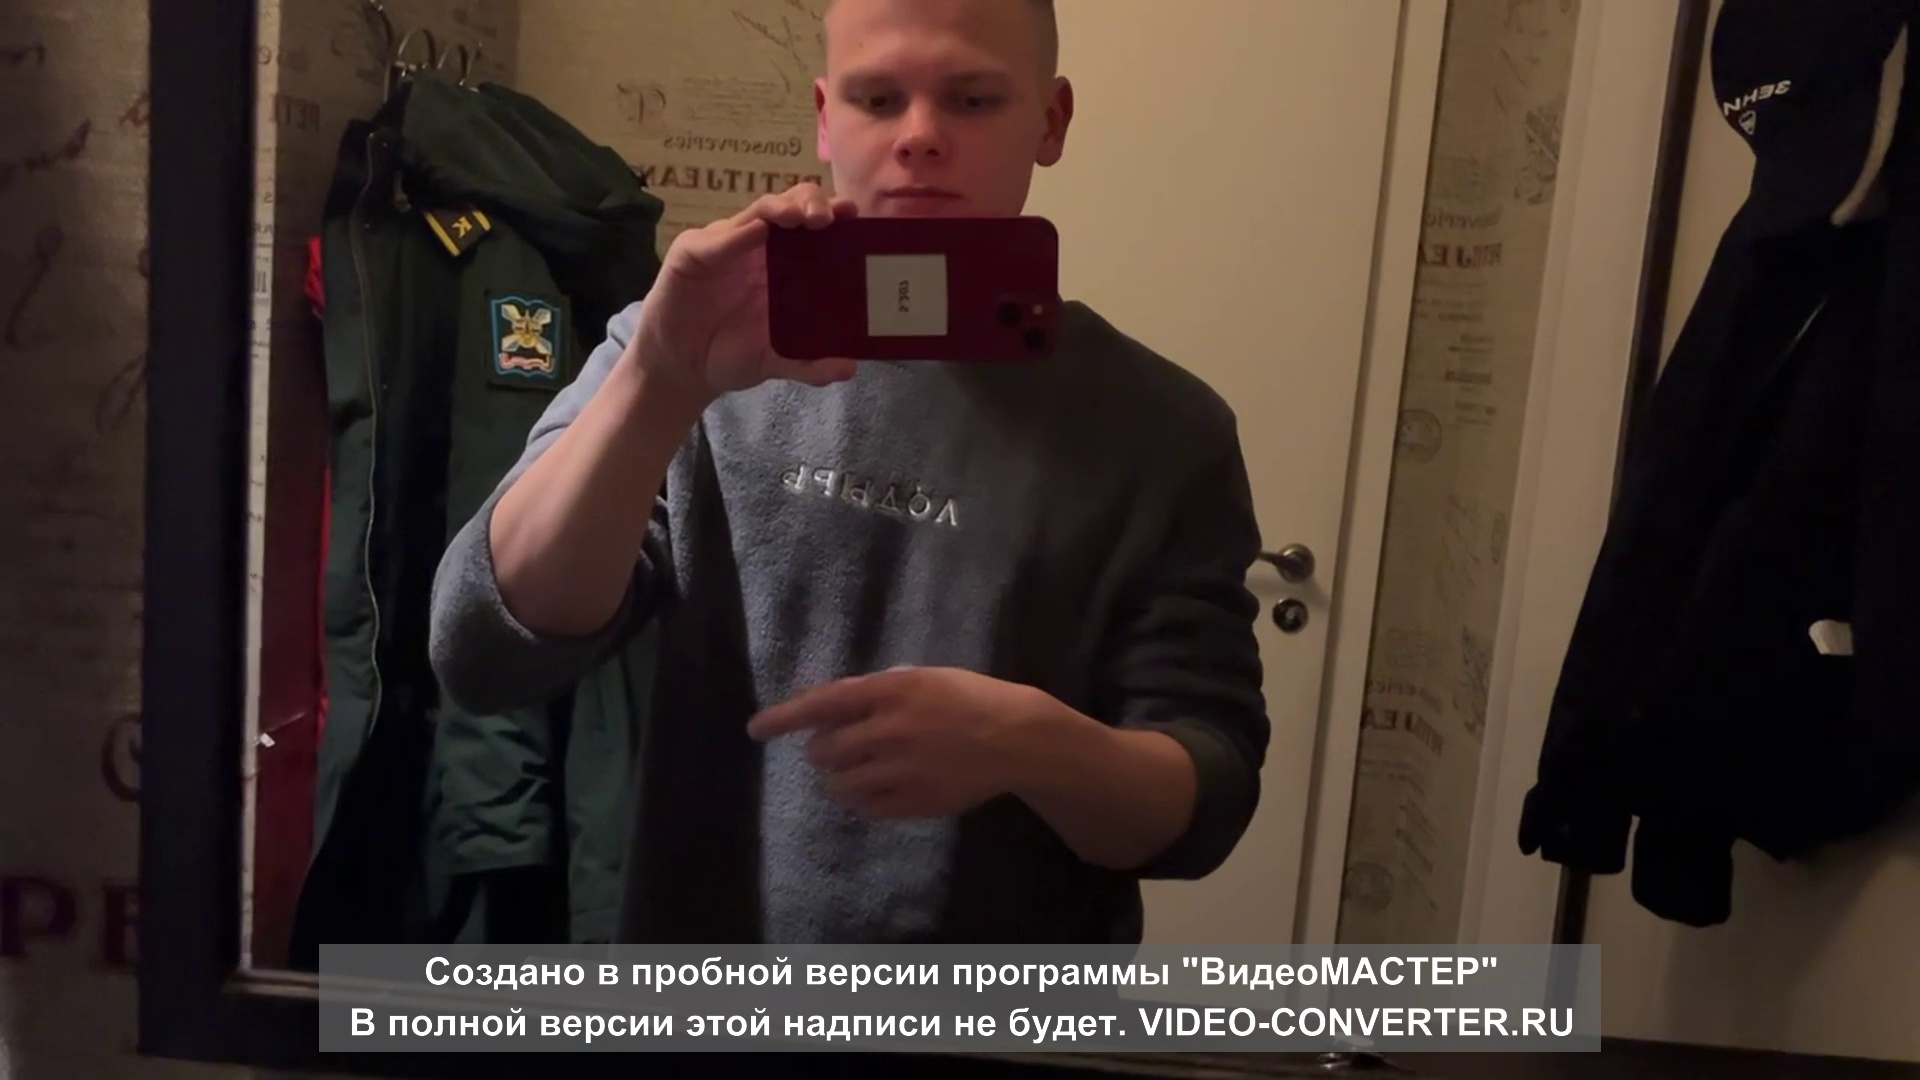Кисть: (744, 665, 1048, 827)
